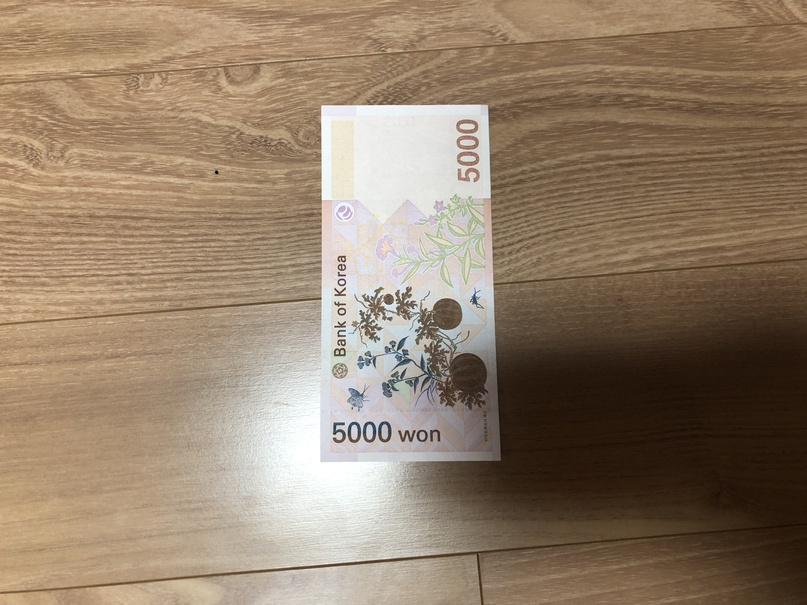5000won: (320, 106, 504, 462)
